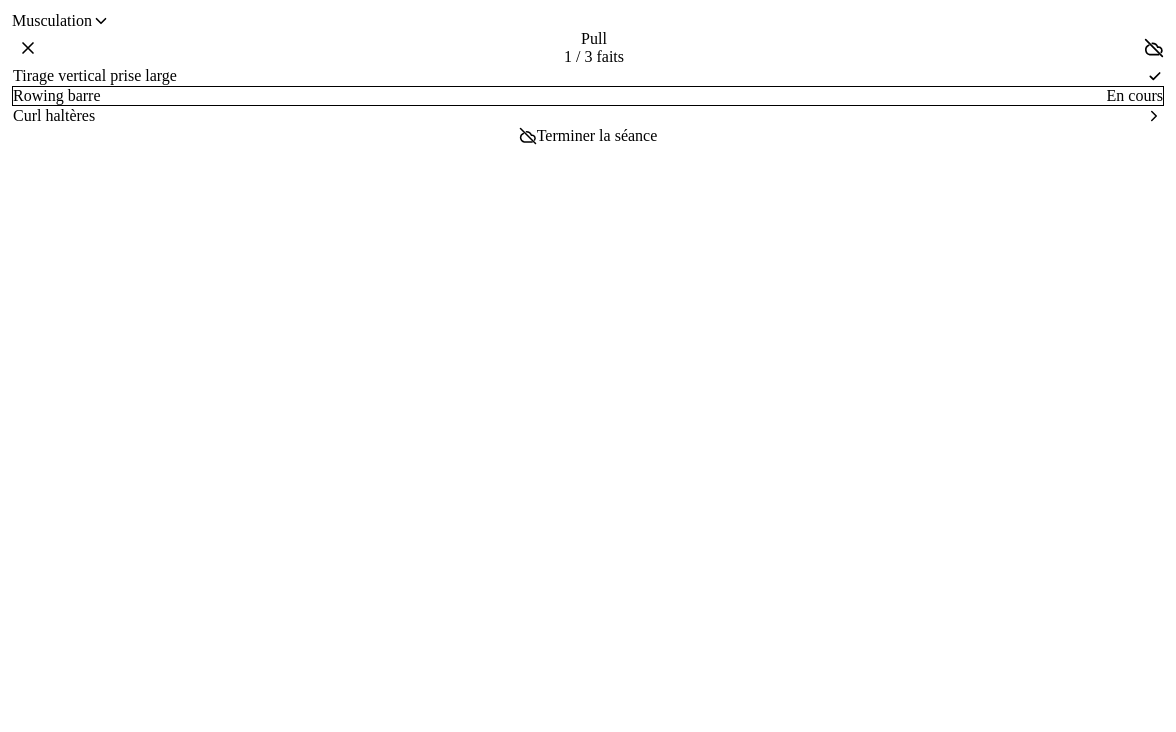
Exercice en cours › offline, the whole flow: sets, Terminé, then the list shows ✓
Click the link "Rowing barre En cours". click: (57, 96)
box: [12, 86, 1164, 106]
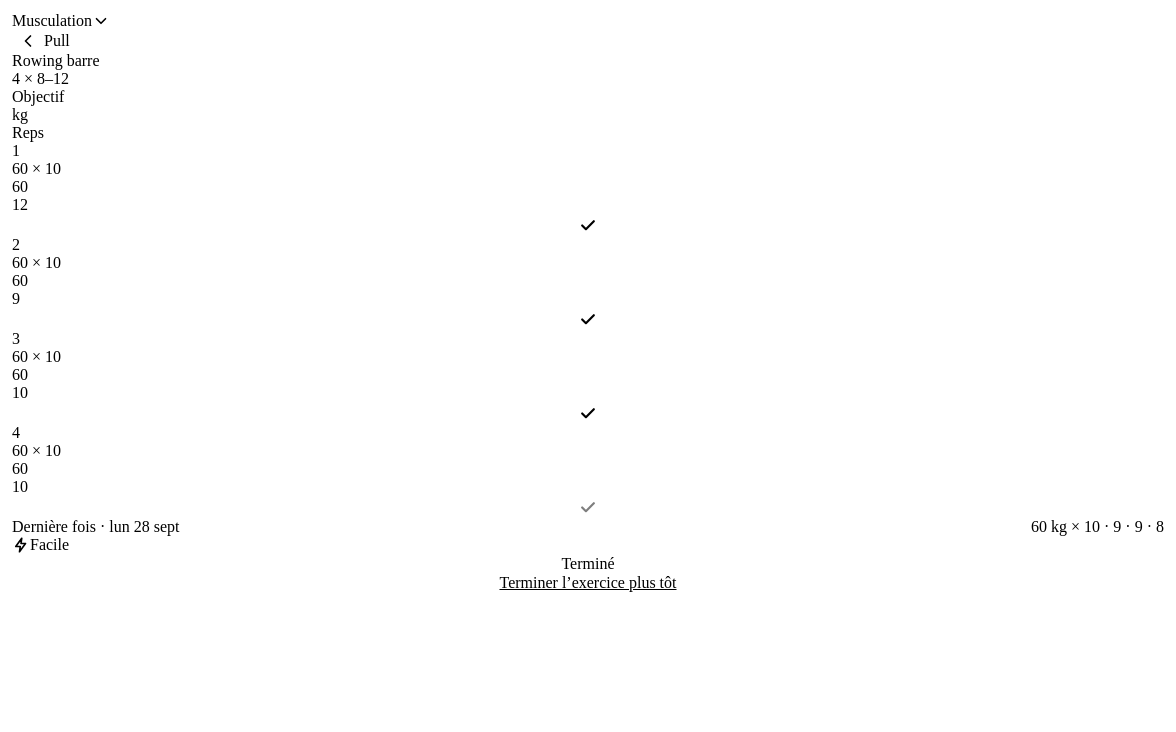
Click the button named "Valider la série 3". click: (588, 413)
box: [12, 402, 1164, 424]
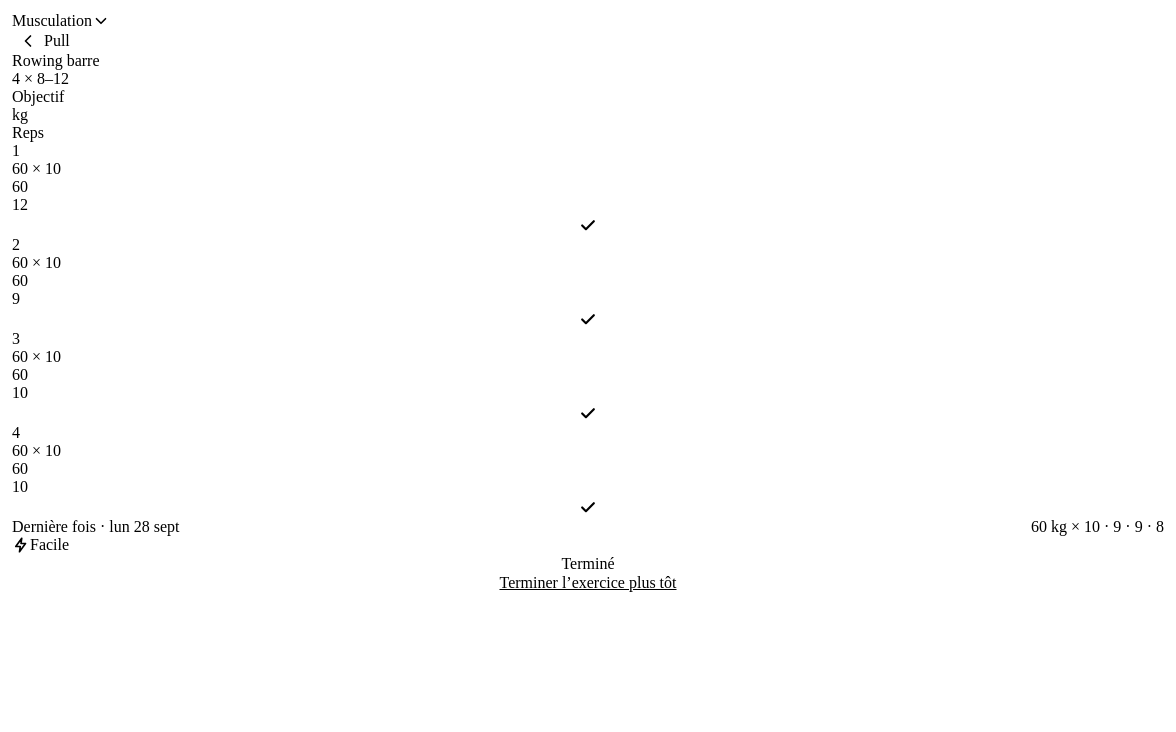
Click the button named "Valider la série 4". click: (588, 507)
box: [12, 496, 1164, 518]
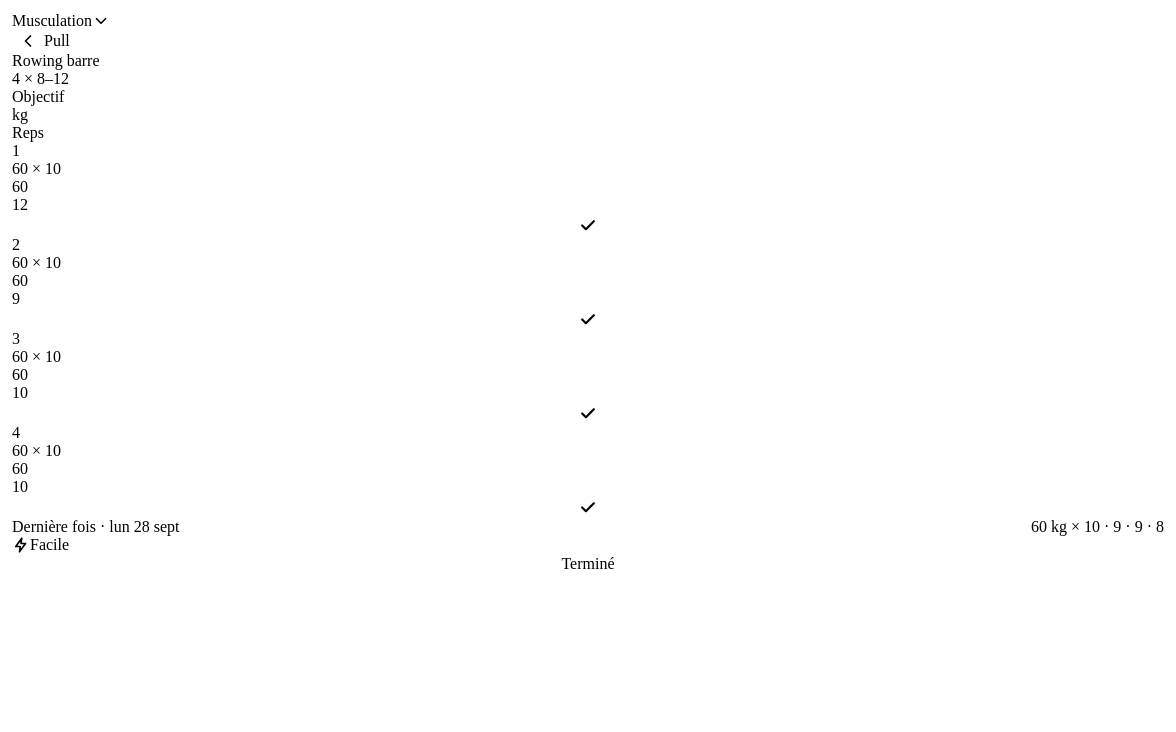
Click the button "Terminé". click: (588, 564)
box: [12, 554, 1164, 574]
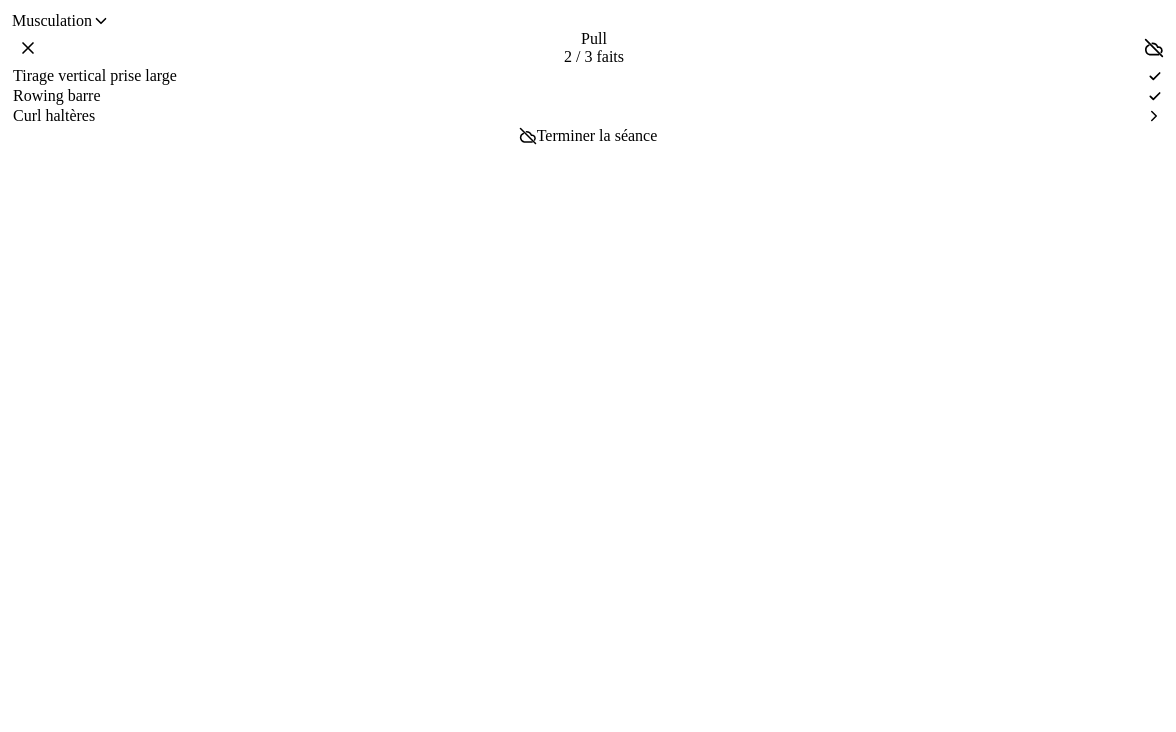
expect the text "2 / 3 faits" is shown: met, box [564, 48, 624, 66]
expect the picture named "Fait" in the row of "Rowing barre" is shown: met, box [1147, 88, 1163, 104]
expect the button with aria-label "Terminer la séance, connexion requise" is disabled: met, box [12, 126, 1164, 146]
